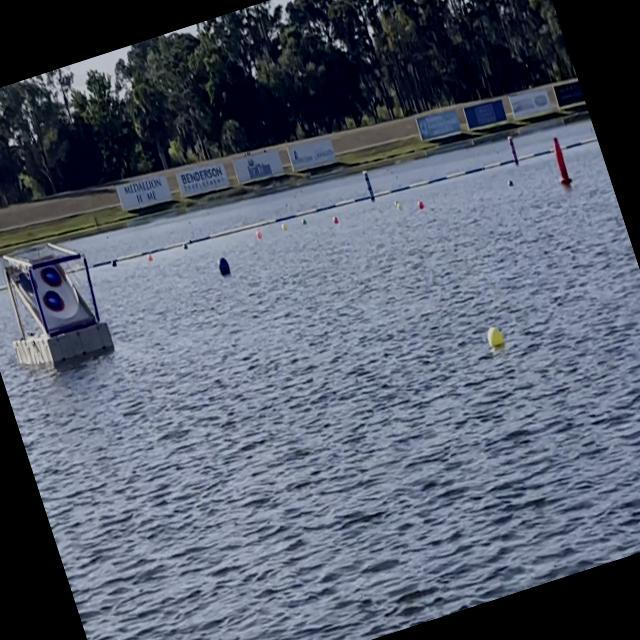buoy: (482, 318, 516, 362), (211, 252, 238, 282), (252, 226, 272, 250), (328, 210, 345, 230), (108, 256, 123, 274), (144, 250, 158, 266), (504, 175, 518, 191), (278, 221, 290, 236), (416, 200, 427, 215), (300, 215, 310, 228), (395, 201, 405, 213)
